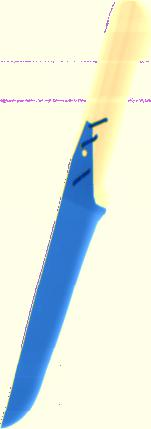Knife: (1, 3, 146, 429)
